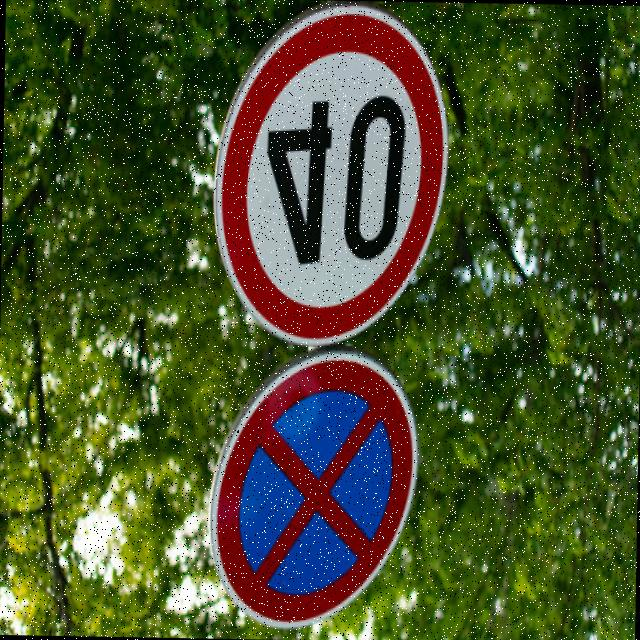no_parking: (203, 346, 428, 640)
